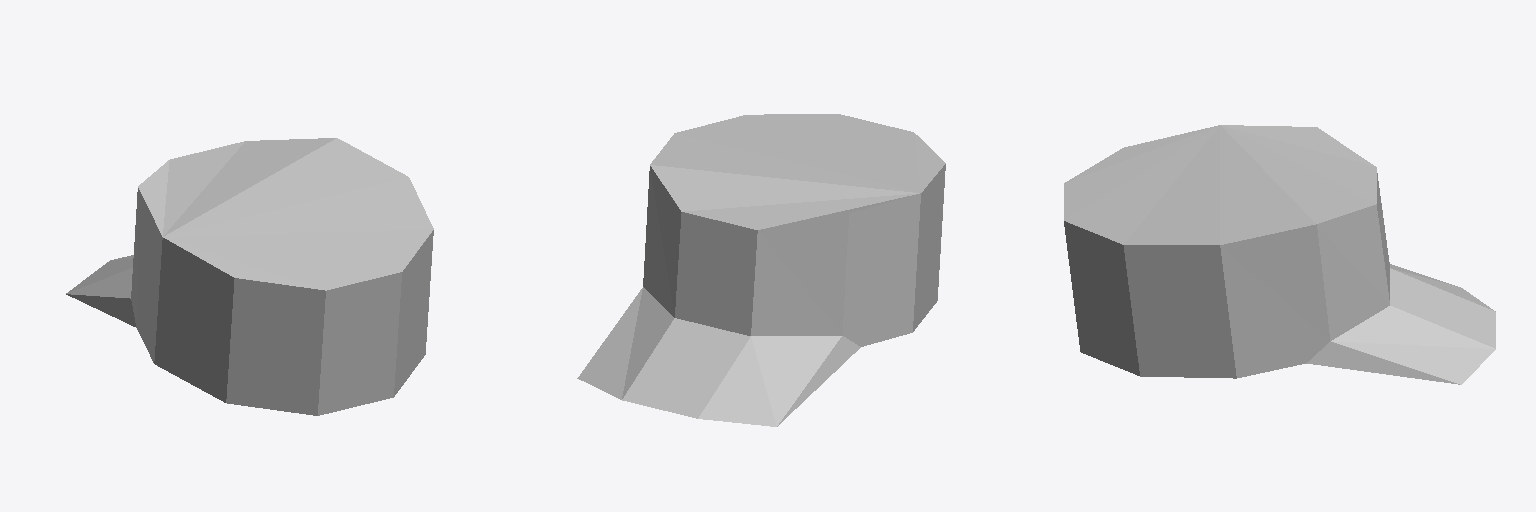
Rendered from Enclave officer.obj.
3 renders of one model, left to right at view 1: azimuth 30°, elevation 25°; view 2: azimuth 150°, elevation 25°; view 3: azimuth 270°, elevation 25°, orthographic.
Parts seen in each view (by area): view 1: Encl_off_hat; view 2: Encl_off_hat; view 3: Encl_off_hat.
Part boxes in pixels (left/top/right/bottom): Encl_off_hat: left=66, top=138, right=433, bottom=415; Encl_off_hat: left=577, top=114, right=945, bottom=426; Encl_off_hat: left=1064, top=125, right=1495, bottom=384.
Size of the model in its own units: 11.63 by 7.25 by 17.68.